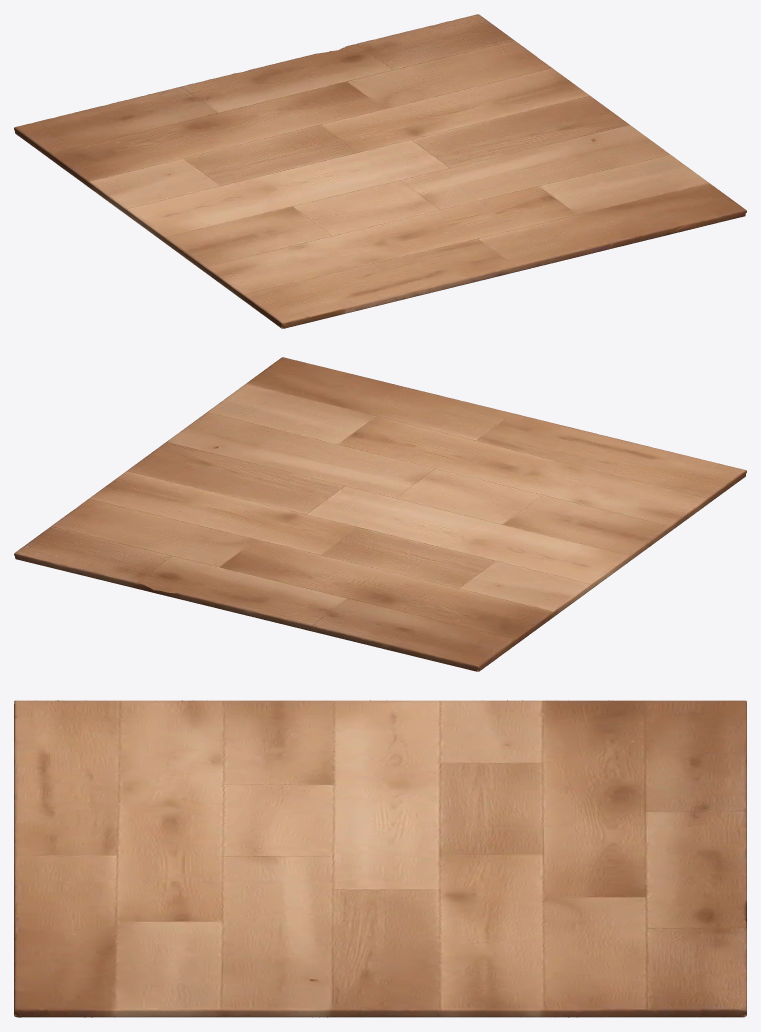
The model's file is flooring1.glb.
The picture shows the model from 3 angles, top to bottom: view 1: azimuth 30°, elevation 25°; view 2: azimuth 150°, elevation 25°; view 3: azimuth 270°, elevation 25°; orthographic projection. The views are drawn at different scales.
Size of the model in its own units: 1.9 by 0.025 by 1.9.
Materials: 1 (1 with a texture image).
